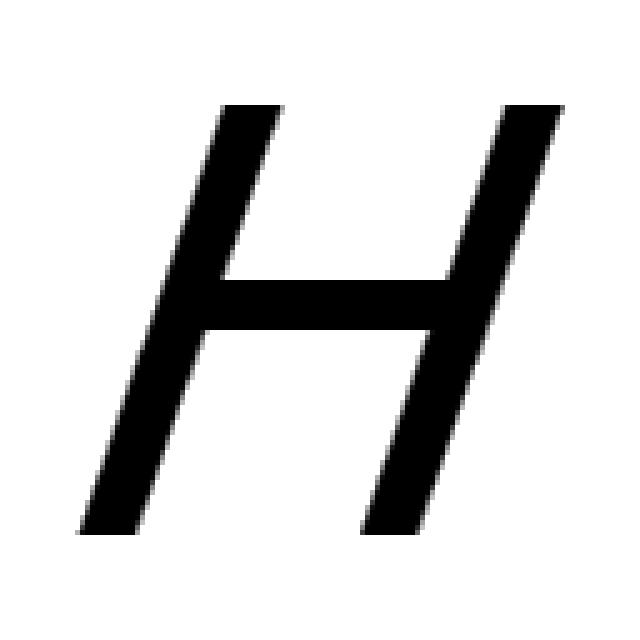H: (70, 90, 570, 540)
